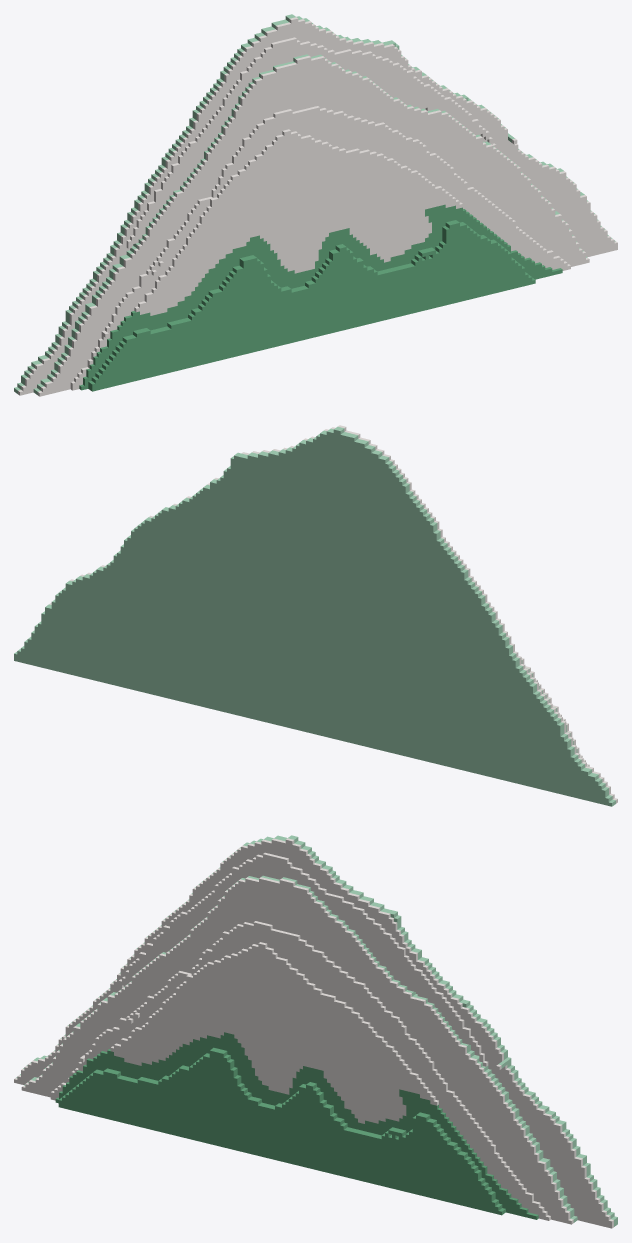
File: mount.glb
The picture shows the model from 3 angles, top to bottom: view 1: azimuth 30°, elevation 25°; view 2: azimuth 150°, elevation 25°; view 3: azimuth 330°, elevation 25°; orthographic projection.
Parts seen in each view (by area): view 1: Polygon; view 2: Polygon; view 3: Polygon.
Part boxes in pixels (<box>): Polygon: <box>14,14,617,396</box>; Polygon: <box>14,425,617,806</box>; Polygon: <box>14,835,617,1228</box>.
Size of the model in its own units: 17.4 by 8.6 by 1.
1 material, 1 textured.
